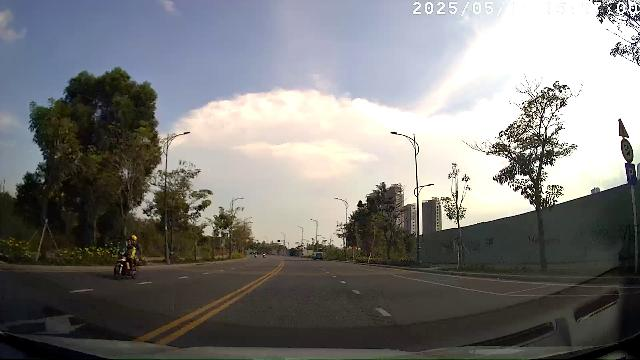127-toc-do-toi-da-50: (620, 138, 635, 163)
